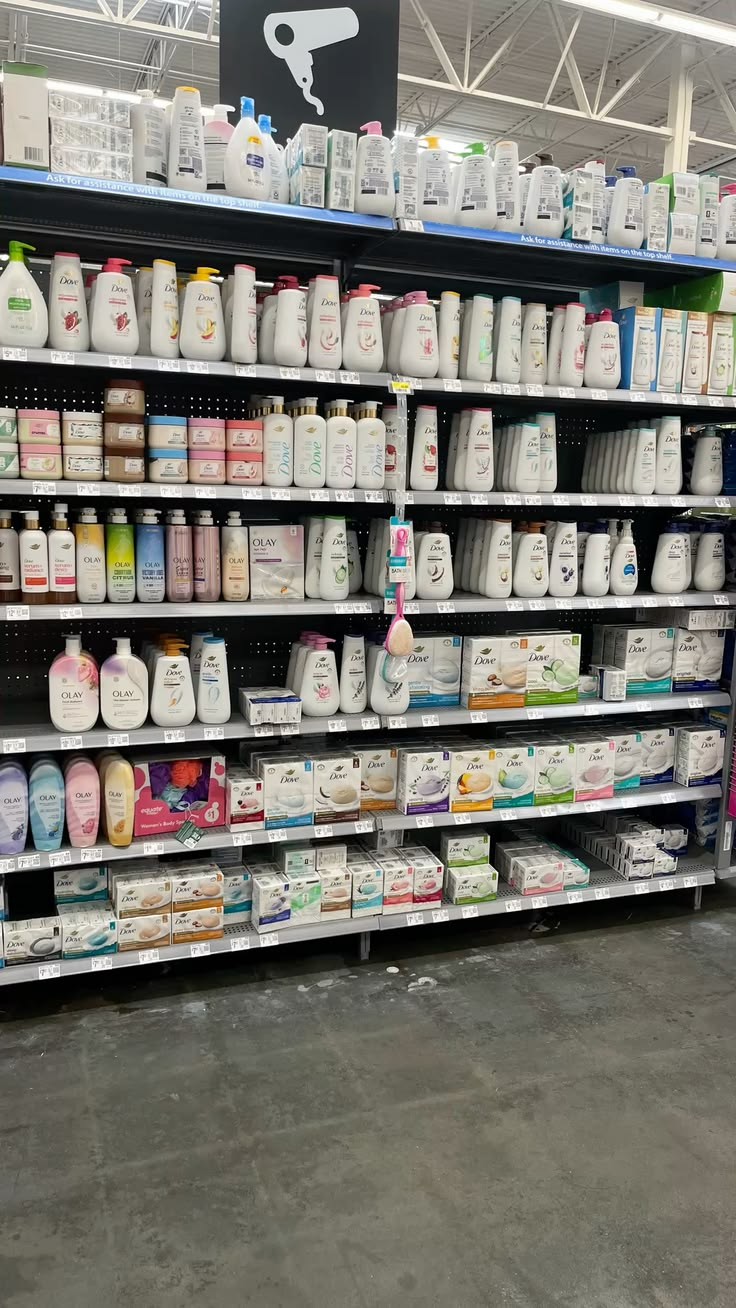Shampoo: (398, 291, 436, 378), (309, 277, 341, 368), (584, 309, 620, 389), (326, 401, 355, 488)
